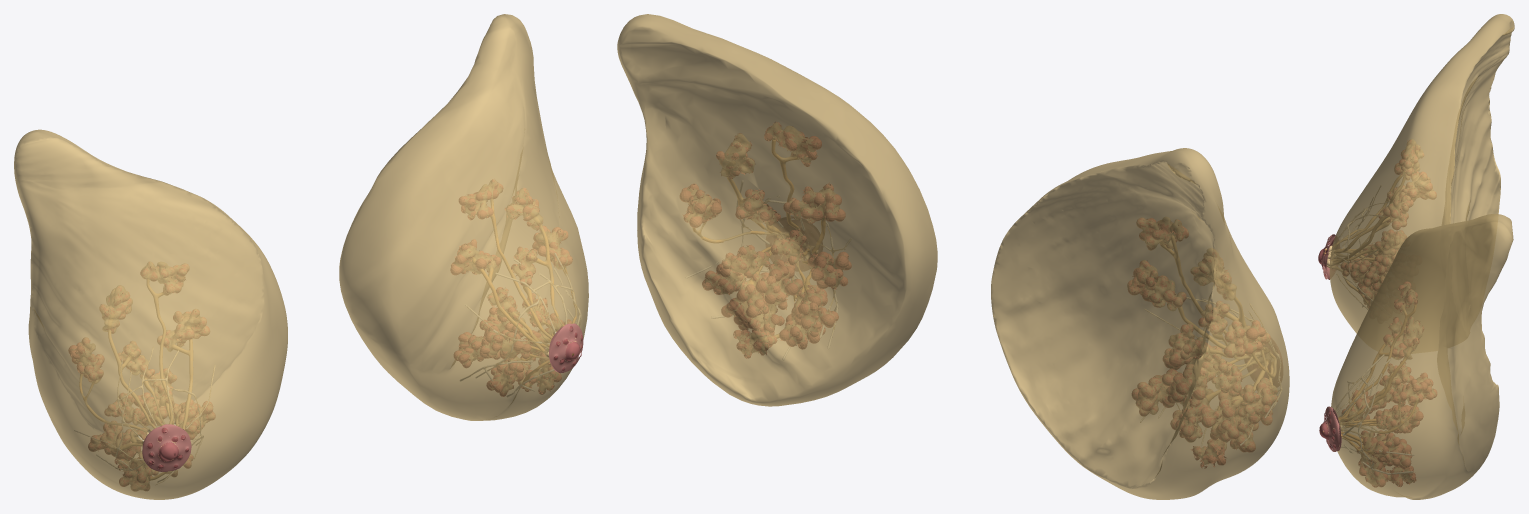
File: ieobom-female-mammary-v2.glb
3 renders of one model, left to right at view 1: azimuth 30°, elevation 25°; view 2: azimuth 150°, elevation 25°; view 3: azimuth 270°, elevation 25°, orthographic. The views are drawn at different scales.
Visible parts, largest first — view 1: FEMALE_HRA_TX_VH_F_fat_R.001, FEMALE_HRA_TX_VH_F_fat_L.001, FEMALE_HRA_TX_VH_F_mammary_lobes_L.001, FEMALE_HRA_TX_VH_F_mammary_lobes_R.001, FEMALE_HRA_TX_VH_F_main_lactiferous_ducts_L.001, FEMALE_HRA_TX_VH_F_areola_R.001, FEMALE_HRA_TX_VH_F_areola_L.001, FEMALE_HRA_TX_VH_F_suspensory_ligaments_L.001; view 2: FEMALE_HRA_TX_VH_F_fat_L.001, FEMALE_HRA_TX_VH_F_fat_R.001, FEMALE_HRA_TX_VH_F_mammary_lobes_L.001, FEMALE_HRA_TX_VH_F_mammary_lobes_R.001, FEMALE_HRA_TX_VH_F_main_lactiferous_ducts_L.001; view 3: FEMALE_HRA_TX_VH_F_fat_L.001, FEMALE_HRA_TX_VH_F_fat_R.001, FEMALE_HRA_TX_VH_F_mammary_lobes_L.001, FEMALE_HRA_TX_VH_F_mammary_lobes_R.001, FEMALE_HRA_TX_VH_F_main_lactiferous_ducts_L.001, FEMALE_HRA_TX_VH_F_suspensory_ligaments_L.001, FEMALE_HRA_TX_VH_F_areola_L.001, FEMALE_HRA_TX_VH_F_areola_R.001.
Boxes of the visible parts, x1,y1,x2,y2 form: FEMALE_HRA_TX_VH_F_fat_R.001: [14, 129, 287, 499]; FEMALE_HRA_TX_VH_F_fat_L.001: [339, 14, 588, 420]; FEMALE_HRA_TX_VH_F_mammary_lobes_L.001: [450, 179, 572, 396]; FEMALE_HRA_TX_VH_F_mammary_lobes_R.001: [68, 262, 215, 490]; FEMALE_HRA_TX_VH_F_main_lactiferous_ducts_L.001: [473, 201, 576, 388]; FEMALE_HRA_TX_VH_F_areola_R.001: [142, 424, 191, 471]; FEMALE_HRA_TX_VH_F_areola_L.001: [549, 323, 583, 373]; FEMALE_HRA_TX_VH_F_suspensory_ligaments_L.001: [460, 253, 581, 396]; FEMALE_HRA_TX_VH_F_fat_L.001: [617, 14, 937, 406]; FEMALE_HRA_TX_VH_F_fat_R.001: [991, 148, 1289, 499]; FEMALE_HRA_TX_VH_F_mammary_lobes_L.001: [680, 122, 851, 358]; FEMALE_HRA_TX_VH_F_mammary_lobes_R.001: [1128, 218, 1277, 468]; FEMALE_HRA_TX_VH_F_main_lactiferous_ducts_L.001: [692, 138, 825, 338]; FEMALE_HRA_TX_VH_F_fat_L.001: [1331, 214, 1513, 499]; FEMALE_HRA_TX_VH_F_fat_R.001: [1329, 14, 1514, 333]; FEMALE_HRA_TX_VH_F_mammary_lobes_L.001: [1342, 281, 1436, 487]; FEMALE_HRA_TX_VH_F_mammary_lobes_R.001: [1341, 140, 1436, 307]; FEMALE_HRA_TX_VH_F_main_lactiferous_ducts_L.001: [1323, 304, 1416, 454]; FEMALE_HRA_TX_VH_F_suspensory_ligaments_L.001: [1334, 354, 1413, 474]; FEMALE_HRA_TX_VH_F_areola_L.001: [1323, 406, 1341, 451]; FEMALE_HRA_TX_VH_F_areola_R.001: [1321, 234, 1335, 279].
Size of the model in its own units: 0.2803 by 0.1731 by 0.101.
